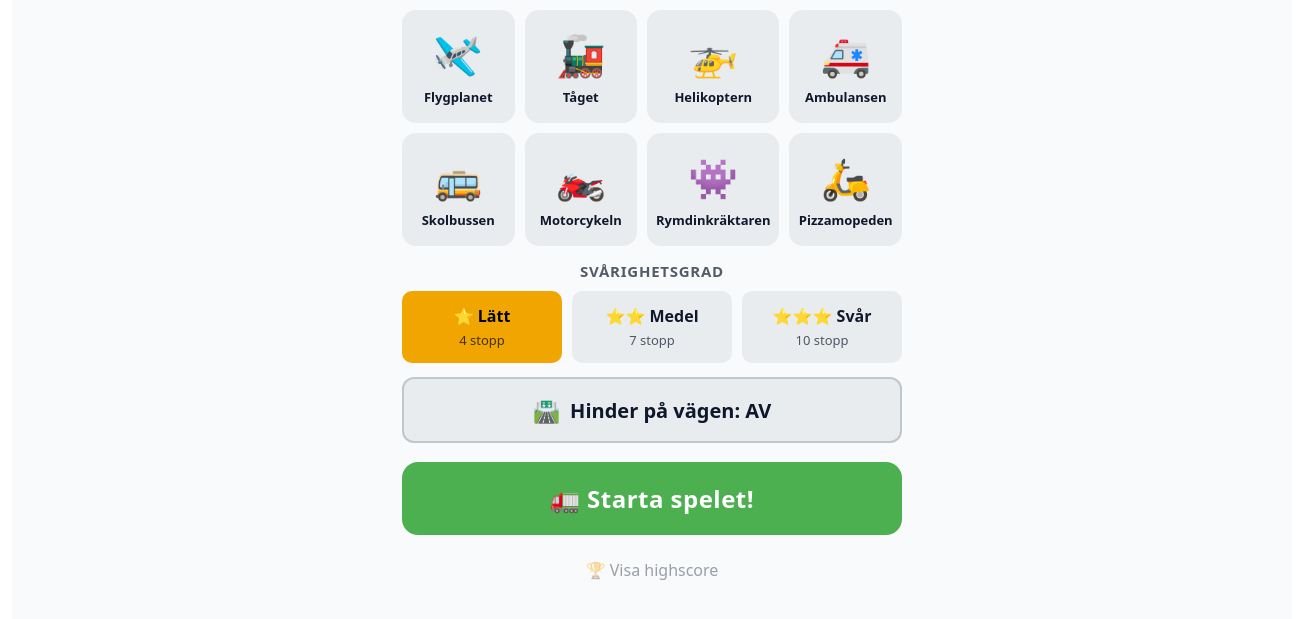
Scenario: App › Kör-knappen är inaktiv tills alla stopp valts
The image size is (1304, 619).
(page scrolled)
Click the button "🚛 Starta spelet!": (652, 498) [402, 462, 902, 535]
(page scrolled)
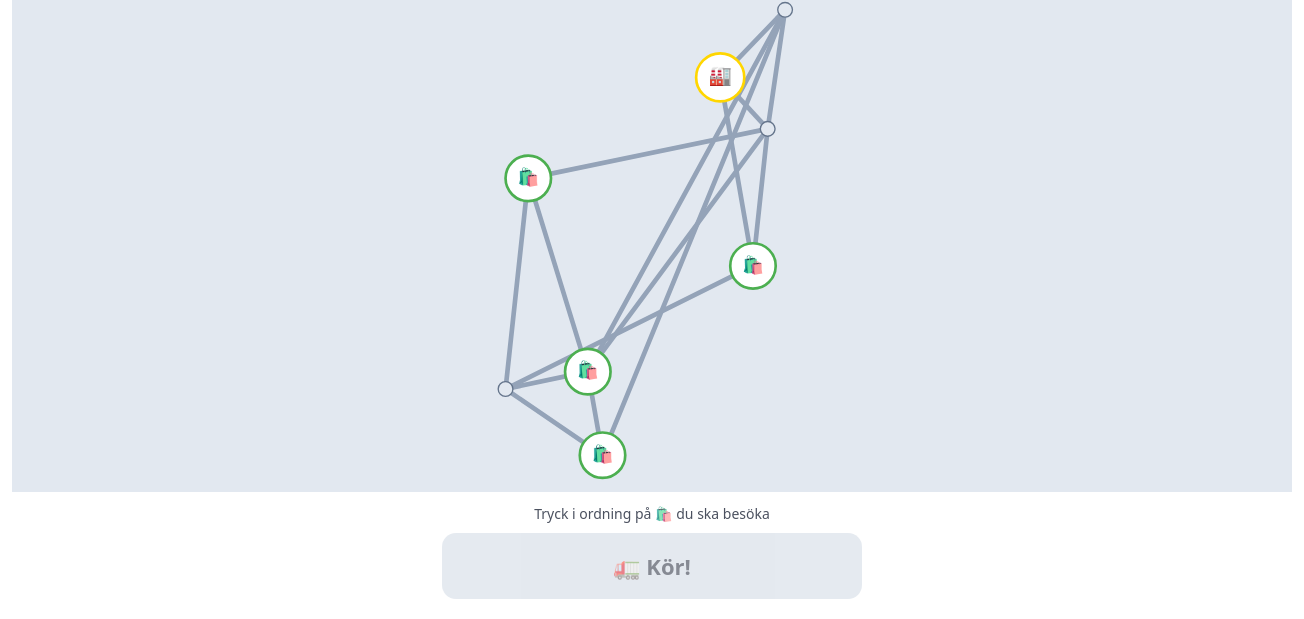
Check: the button "🚛 Kör!" is disabled, box [442, 533, 862, 599]
